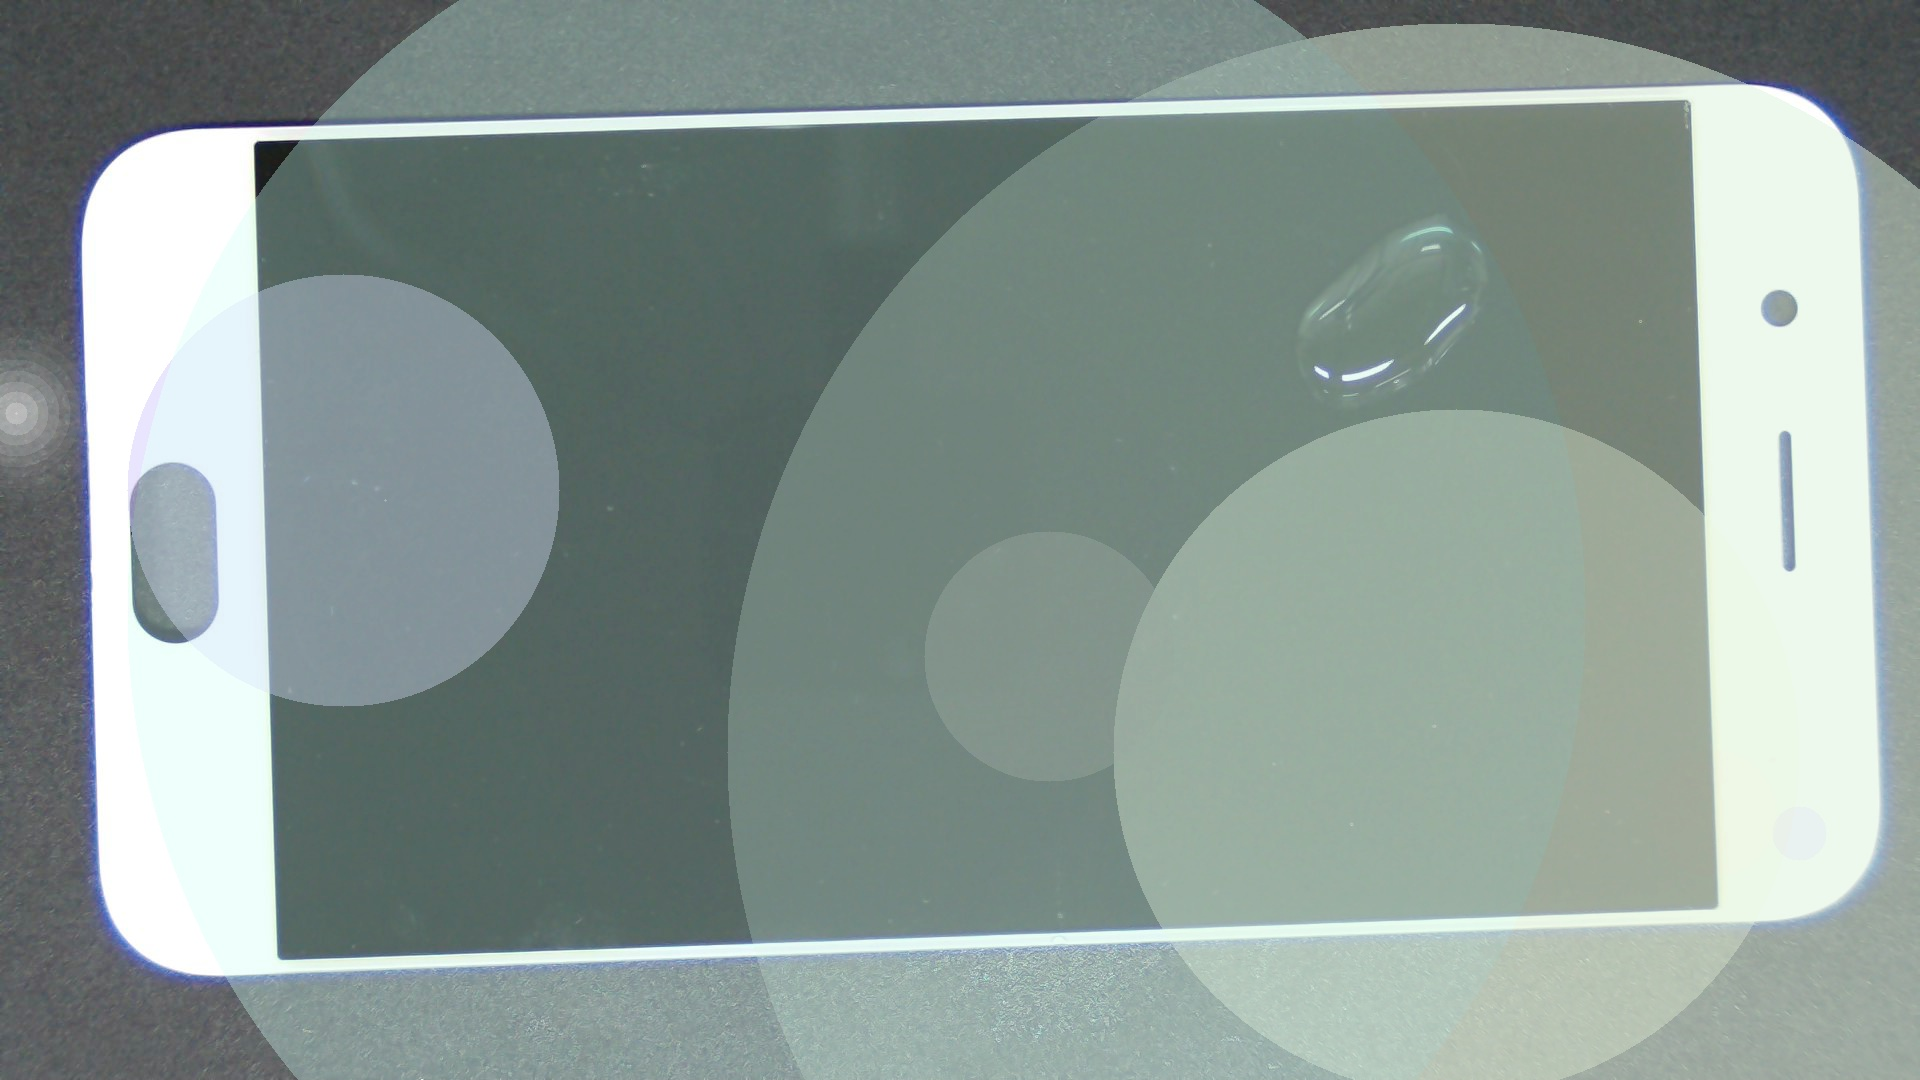oil: (721, 105, 1920, 320)
